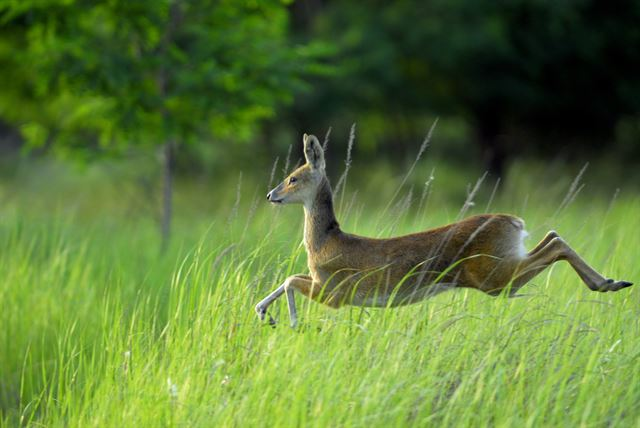elk: (255, 131, 632, 325)
